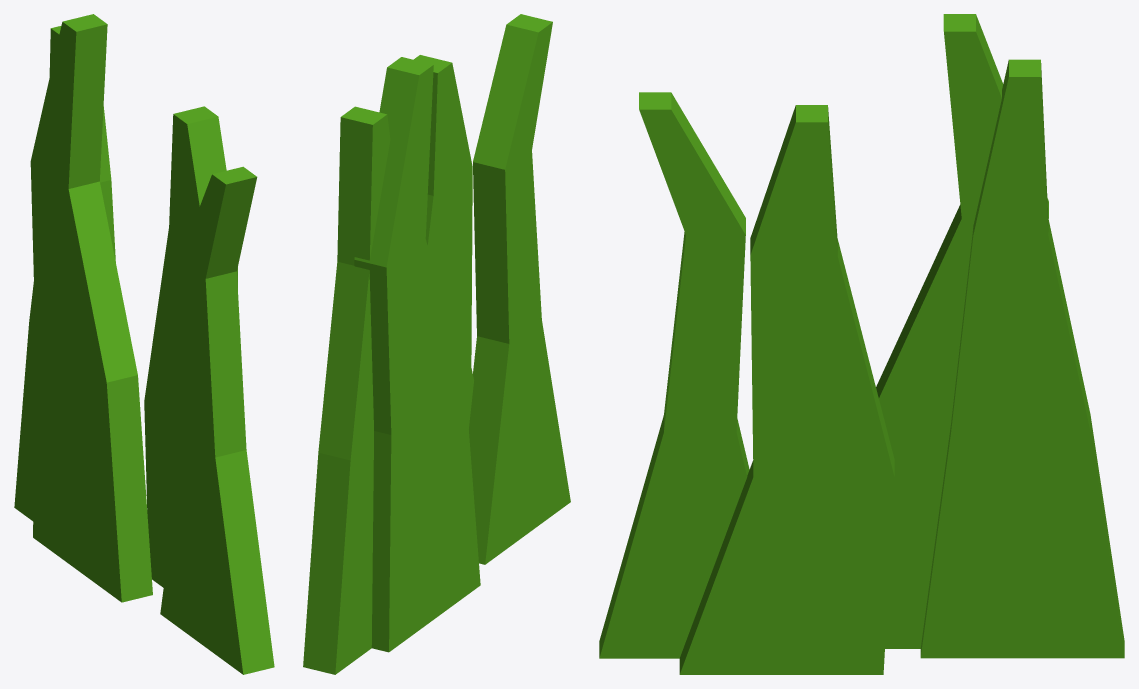
The model's file is Grass_e_01.fbx.
The picture shows the model from 3 angles, left to right: view 1: azimuth 30°, elevation 25°; view 2: azimuth 150°, elevation 25°; view 3: azimuth 270°, elevation 25°; orthographic projection. The views are drawn at different scales.
Parts seen in each view (by area): view 1: Grass_e_01; view 2: Grass_e_01; view 3: Grass_e_01.
Part boxes in pixels (<box>): Grass_e_01: <box>14,14,274,674</box>; Grass_e_01: <box>303,14,570,674</box>; Grass_e_01: <box>599,14,1124,674</box>.
Bounding box in the file's own units: 1.02 × 6.74 × 5.19.
